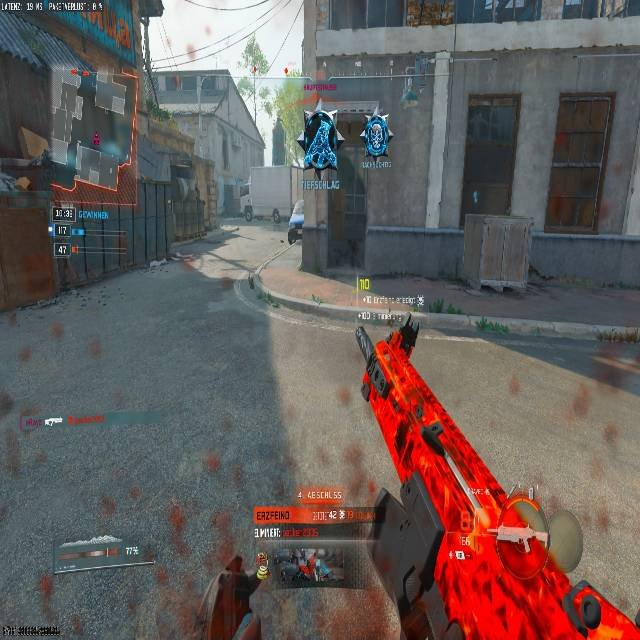head: (495, 500, 549, 577)
player: (297, 108, 339, 173), (240, 190, 254, 221), (243, 201, 253, 222), (271, 207, 281, 224)
